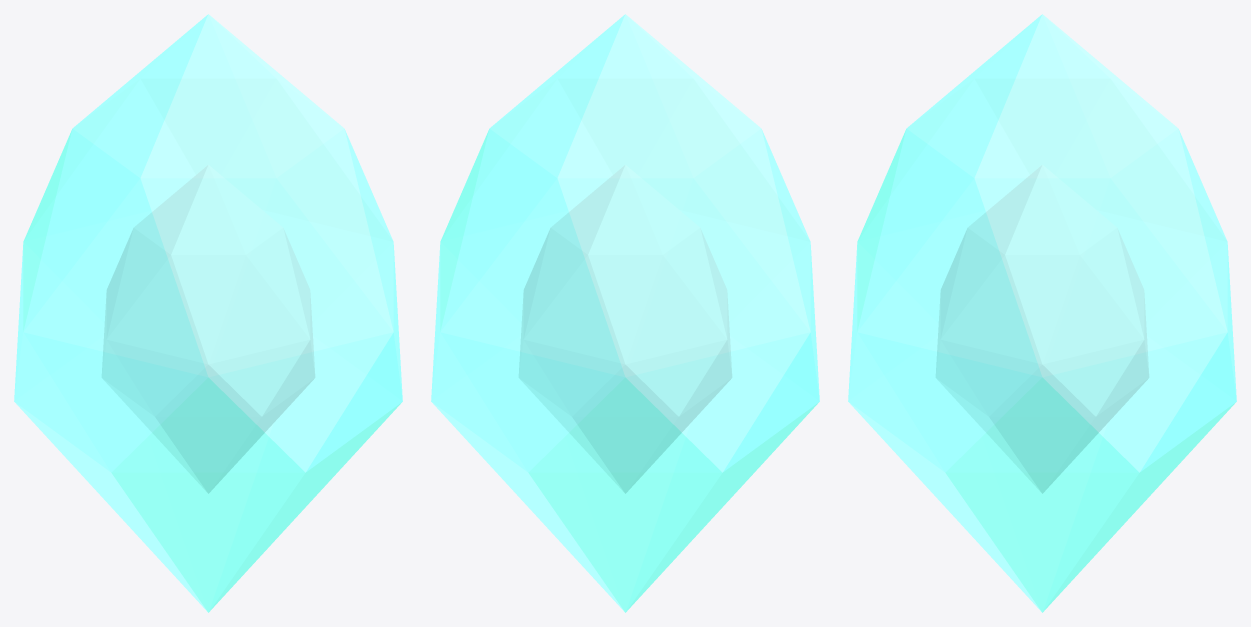
Rendered from SpiritStone.fbx.
3 views of the same model, side by side, from view 1: azimuth 30°, elevation 25°; view 2: azimuth 150°, elevation 25°; view 3: azimuth 270°, elevation 25° (orthographic).
Visible parts, largest first — view 1: SpiritStone, SpiritStoneCore; view 2: SpiritStone, SpiritStoneCore; view 3: SpiritStone, SpiritStoneCore.
Boxes of the visible parts, x1=… form: SpiritStone: x1=14, y1=14, x2=402, y2=612; SpiritStoneCore: x1=102, y1=165, x2=314, y2=493; SpiritStone: x1=431, y1=14, x2=819, y2=612; SpiritStoneCore: x1=519, y1=165, x2=731, y2=493; SpiritStone: x1=848, y1=14, x2=1236, y2=612; SpiritStoneCore: x1=936, y1=165, x2=1148, y2=493.
Bounding box in the file's own units: 0.44 × 0.68 × 0.4.
